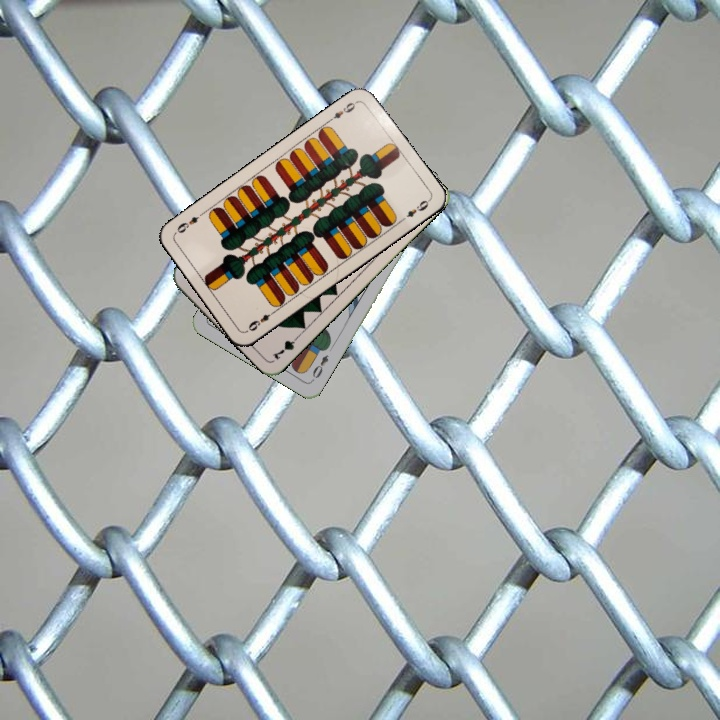E9: (324, 97, 360, 125), (244, 306, 279, 334)
EO: (307, 351, 331, 384)
G7: (268, 330, 303, 362)
